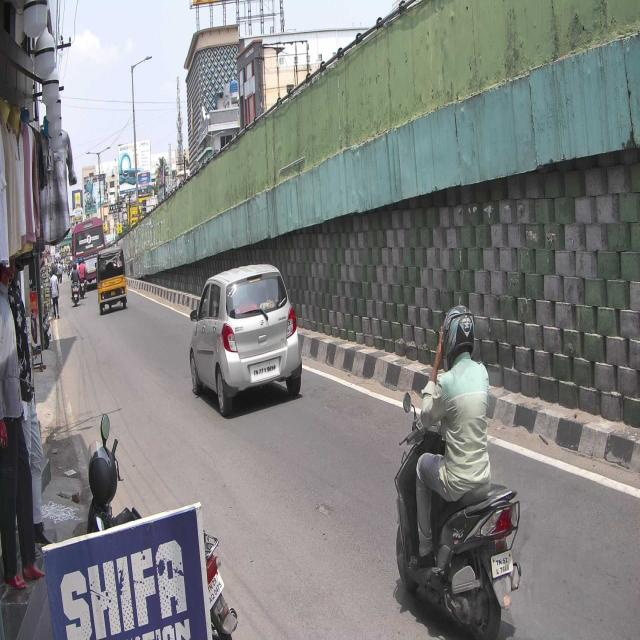single_rider: (393, 302, 523, 640)
